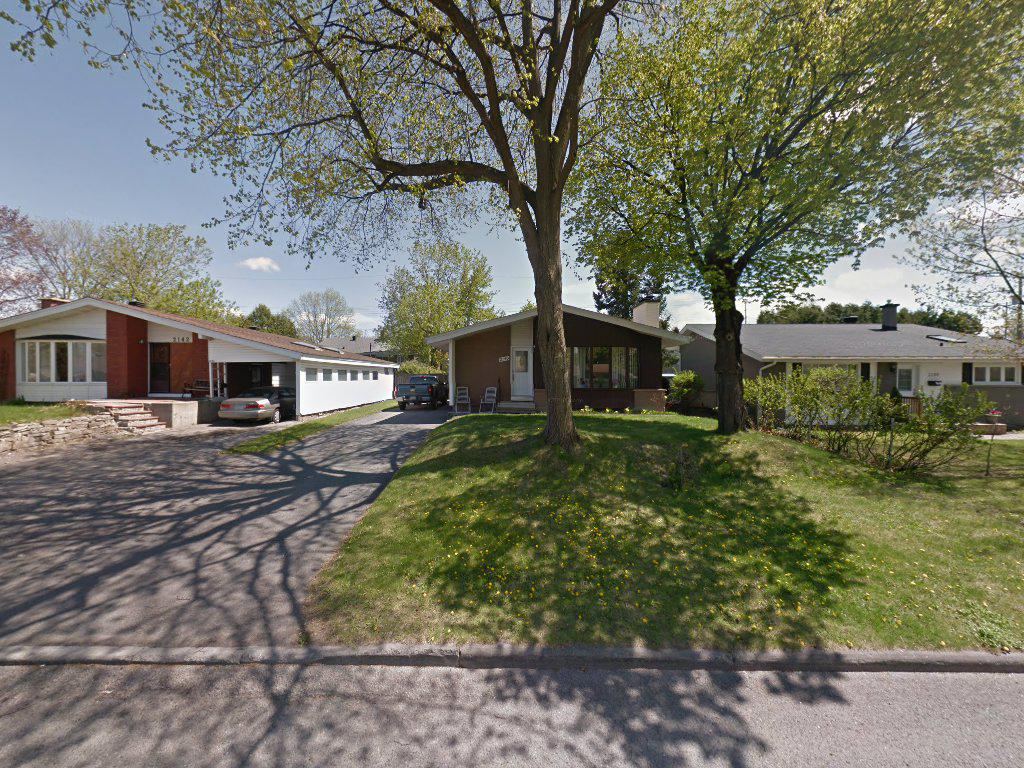trunk: (517, 149, 585, 464), (704, 242, 753, 448)
